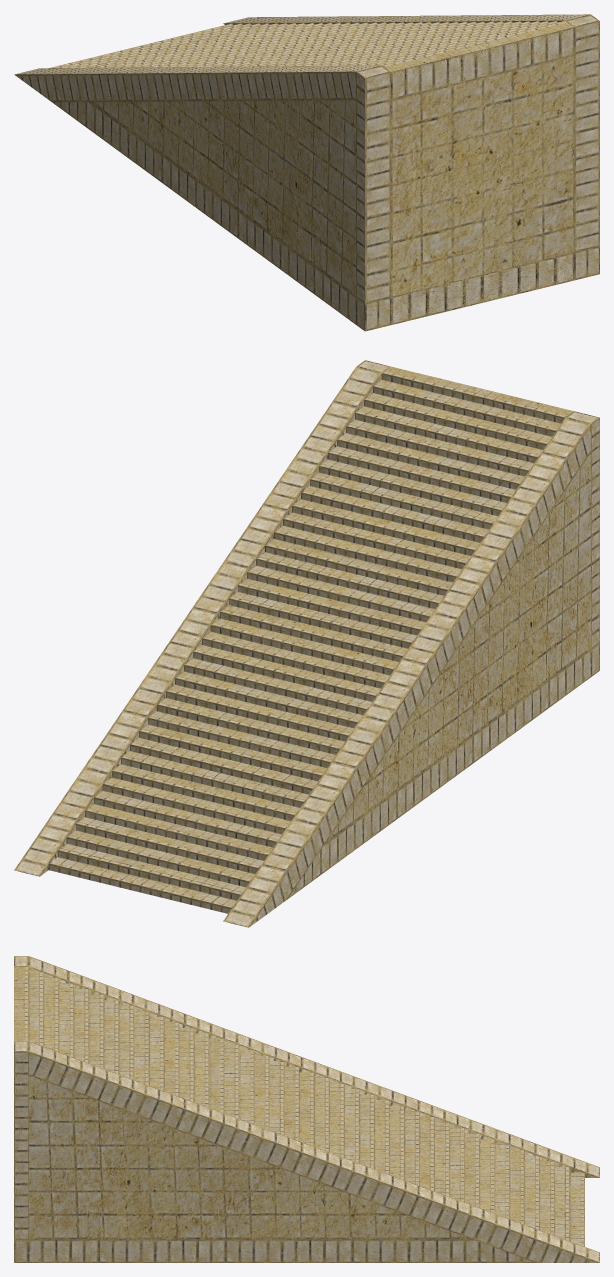
File: tutorial_structure_stairs03_lrg.dae
3 views of the same model, one above another, from view 1: azimuth 30°, elevation 25°; view 2: azimuth 150°, elevation 25°; view 3: azimuth 270°, elevation 25° (orthographic). The views are drawn at different scales.
Visible parts, largest first — view 1: tutorial_structure_stairs03_lrg; view 2: tutorial_structure_stairs03_lrg; view 3: tutorial_structure_stairs03_lrg.
Boxes of the visible parts, x1=… form: tutorial_structure_stairs03_lrg: x1=14, y1=14, x2=599, y2=331; tutorial_structure_stairs03_lrg: x1=14, y1=360, x2=599, y2=927; tutorial_structure_stairs03_lrg: x1=14, y1=956, x2=599, y2=1262.
Bounding box in the file's own units: 6.75 × 17.48 × 6.95.
Materials: 2 (2 with a texture image).
